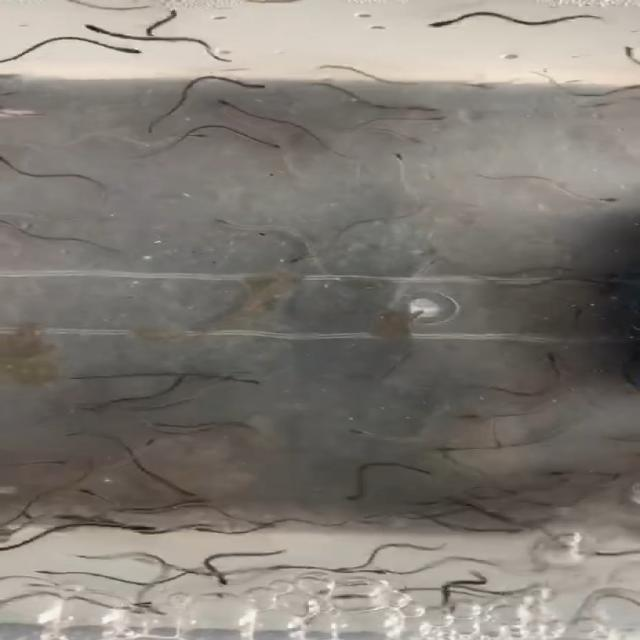active_glass_eel: (514, 339, 578, 371), (471, 518, 528, 546), (236, 370, 302, 394), (379, 126, 439, 150), (207, 215, 271, 236), (38, 443, 83, 472), (568, 187, 620, 211), (440, 404, 496, 426), (46, 480, 94, 505), (30, 507, 86, 528), (400, 104, 452, 126), (240, 515, 282, 541), (410, 14, 478, 30), (460, 76, 506, 98), (78, 398, 124, 420), (390, 305, 438, 325), (360, 562, 400, 586), (58, 541, 98, 565), (544, 259, 596, 277), (380, 149, 424, 170), (120, 520, 170, 538), (481, 503, 516, 528), (99, 38, 147, 56), (215, 95, 258, 115), (133, 432, 166, 458), (255, 134, 289, 158), (590, 268, 624, 292), (394, 100, 444, 116), (135, 8, 199, 20), (180, 126, 214, 148), (594, 89, 626, 112), (72, 18, 112, 36), (280, 250, 320, 268), (207, 572, 243, 592), (588, 542, 623, 562), (344, 427, 382, 445), (155, 371, 193, 389), (322, 588, 360, 606), (208, 371, 248, 388), (340, 480, 370, 502), (229, 74, 272, 89), (174, 522, 218, 536), (120, 606, 164, 620), (266, 544, 318, 555), (431, 441, 461, 460), (27, 566, 67, 580), (570, 301, 598, 321), (436, 592, 466, 610), (329, 562, 359, 580), (167, 485, 199, 501), (524, 496, 564, 508), (497, 581, 525, 598), (346, 515, 378, 529), (416, 253, 444, 267)
